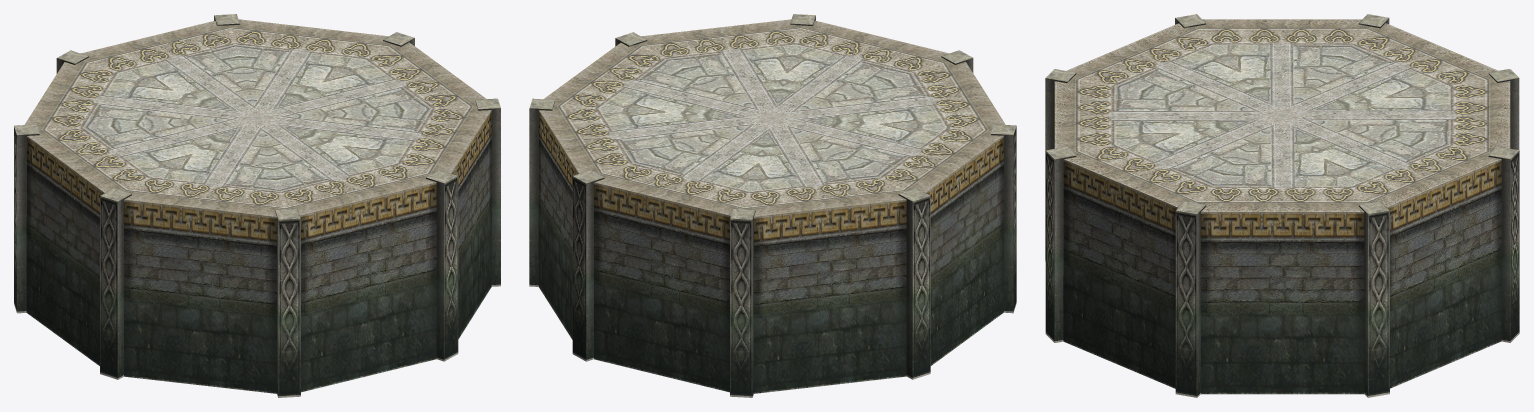
The model's file is otherworld_floor_03.fbx.
3 views of the same model, side by side, from view 1: azimuth 30°, elevation 25°; view 2: azimuth 150°, elevation 25°; view 3: azimuth 270°, elevation 25° (orthographic). The views are drawn at different scales.
Visible parts, largest first — view 1: otherworld_floor_03; view 2: otherworld_floor_03; view 3: otherworld_floor_03.
Boxes of the visible parts, x1=… form: otherworld_floor_03: x1=14, y1=14, x2=500, y2=397; otherworld_floor_03: x1=529, y1=14, x2=1016, y2=397; otherworld_floor_03: x1=1045, y1=14, x2=1519, y2=397.
Size of the model in its own units: 16.5 by 7.05 by 16.5.
